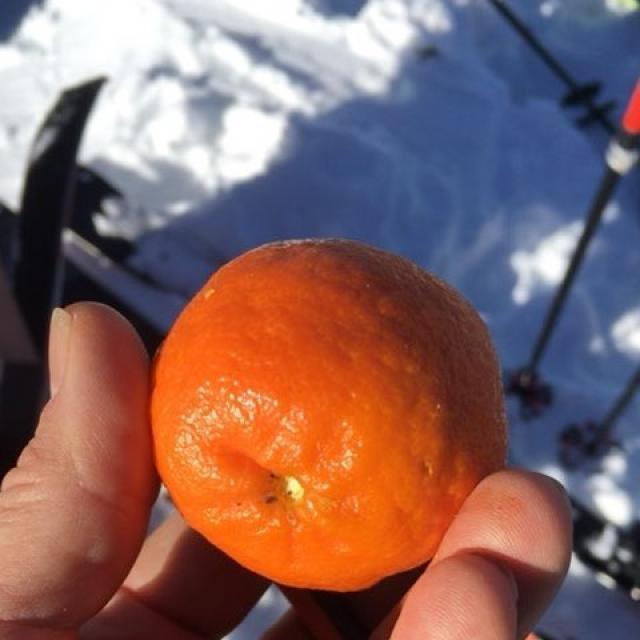mandarine: (153, 242, 502, 578)
